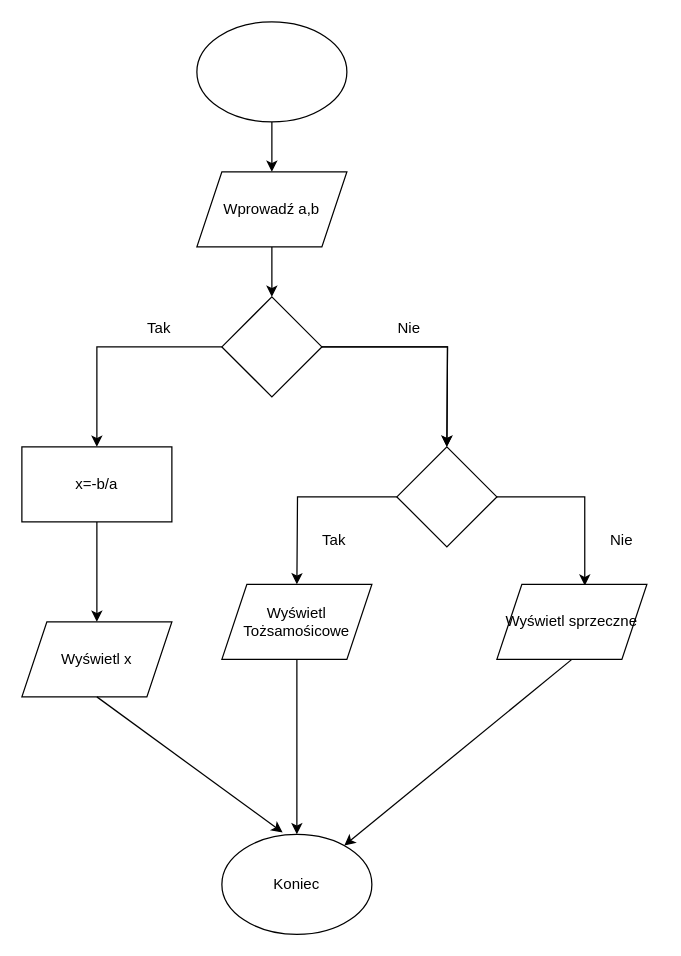
Some shapes in this 681 by 956 pixel diagram are drawn without their labels. The shapes that lost their labels are listed below. From the top down, each one's centre as x and y in pixels, then its label:
At point 271,71: "Start".
At point 271,346: "a != 0".
At point 446,496: "b == 0".
